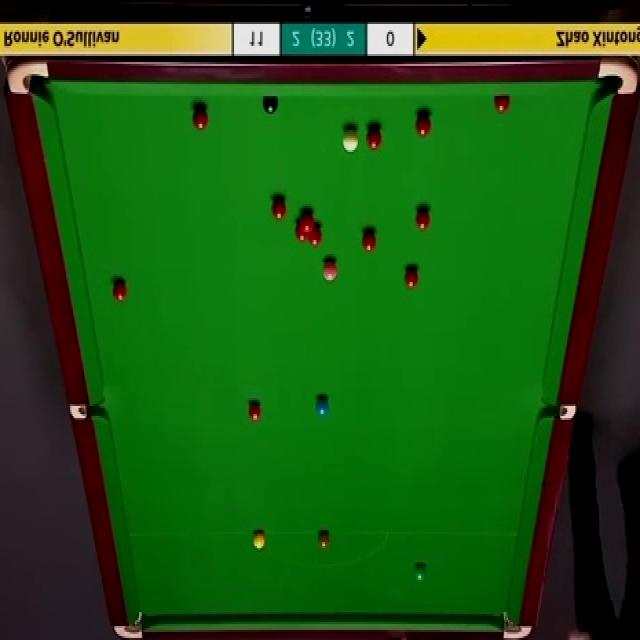black-ball: (262, 94, 280, 115)
blue-ball: (315, 396, 330, 416)
brown-ball: (318, 532, 330, 552)
green-ball: (412, 562, 426, 584)
pink-ball: (322, 256, 339, 281)
red-ball: (358, 229, 376, 255), (191, 105, 208, 132), (111, 278, 129, 302), (404, 265, 420, 291), (366, 124, 382, 150), (414, 113, 432, 136), (415, 205, 430, 231), (246, 400, 263, 422), (272, 196, 287, 220), (294, 218, 308, 242), (494, 95, 510, 115), (309, 222, 322, 246), (300, 210, 316, 229)
white-ball: (343, 127, 357, 151)
yellow-ball: (252, 531, 266, 549)
